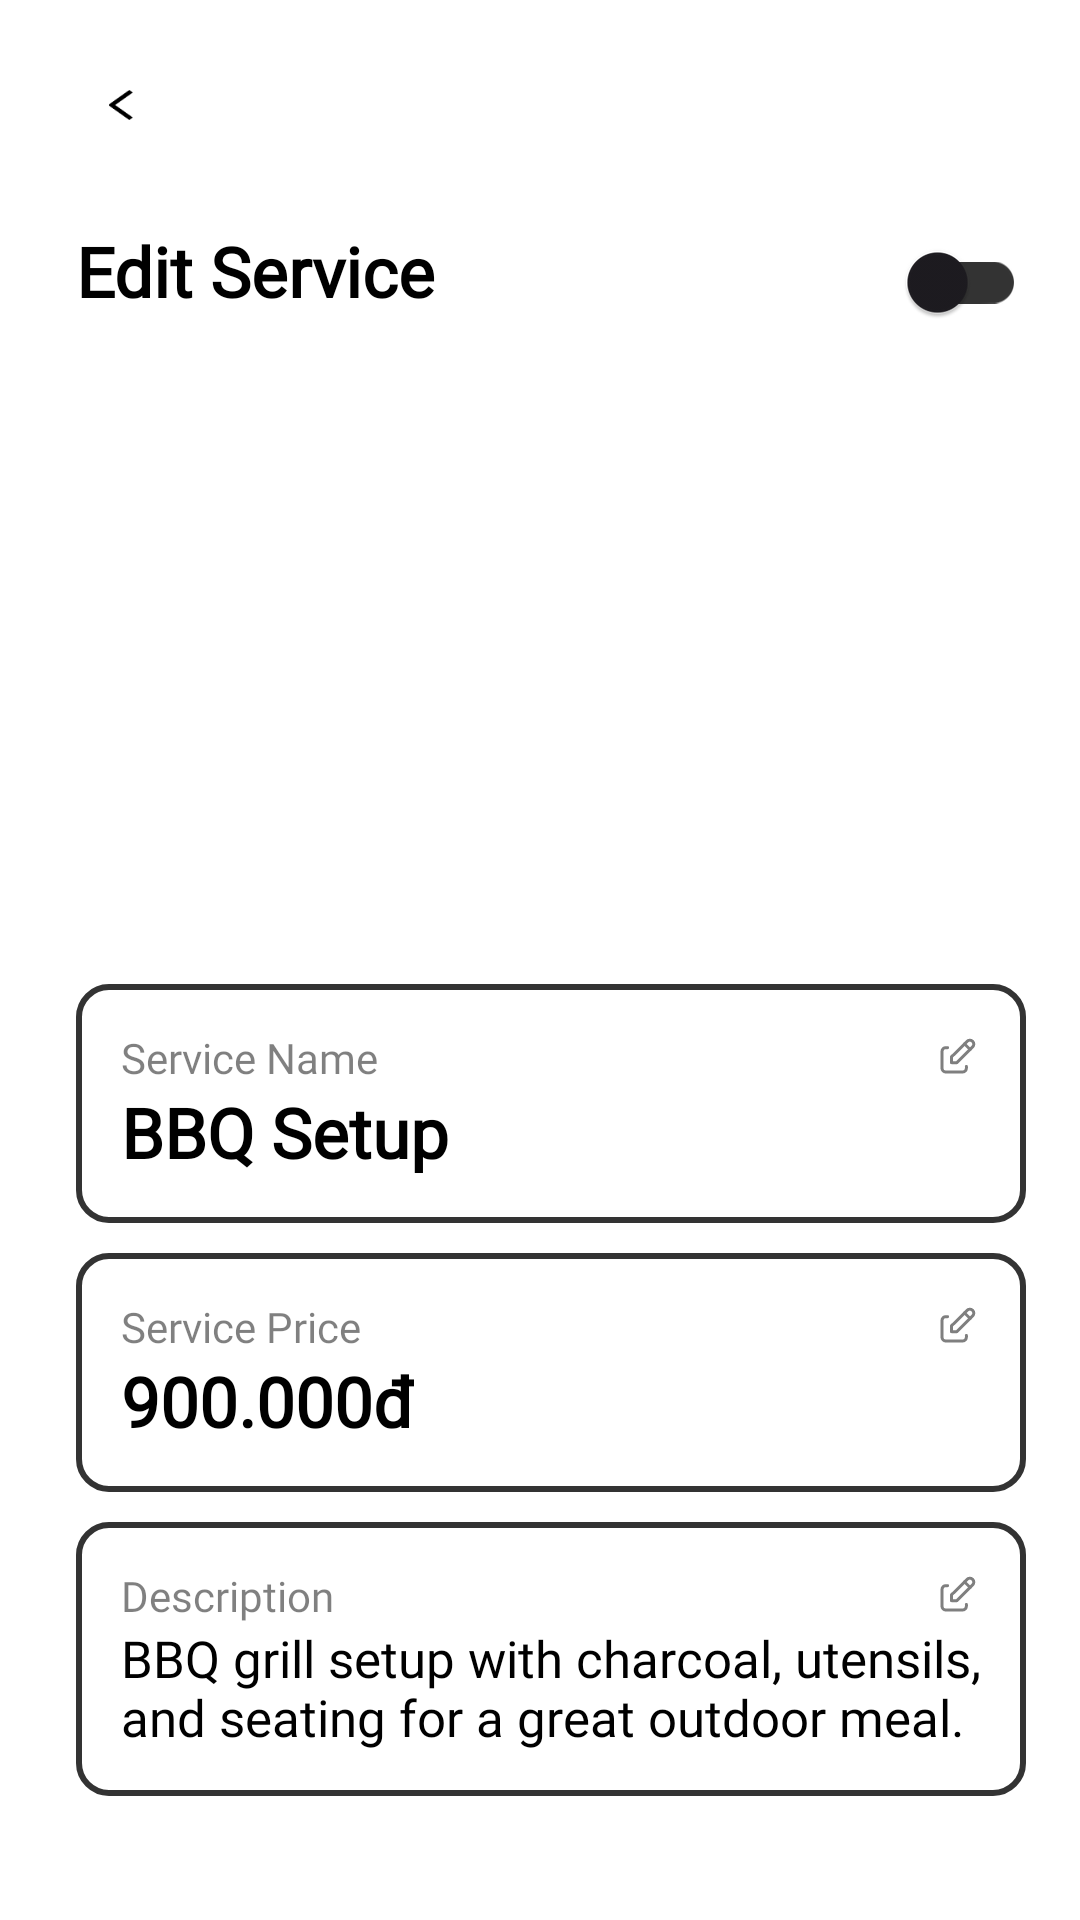

Named icons in this screenshot (1080x1920) and their bounding boxes, {"x1": x1, "y1": y1, "x2": x2, "y2": y2}:
Go back: {"x1": 109, "y1": 90, "x2": 133, "y2": 120}
